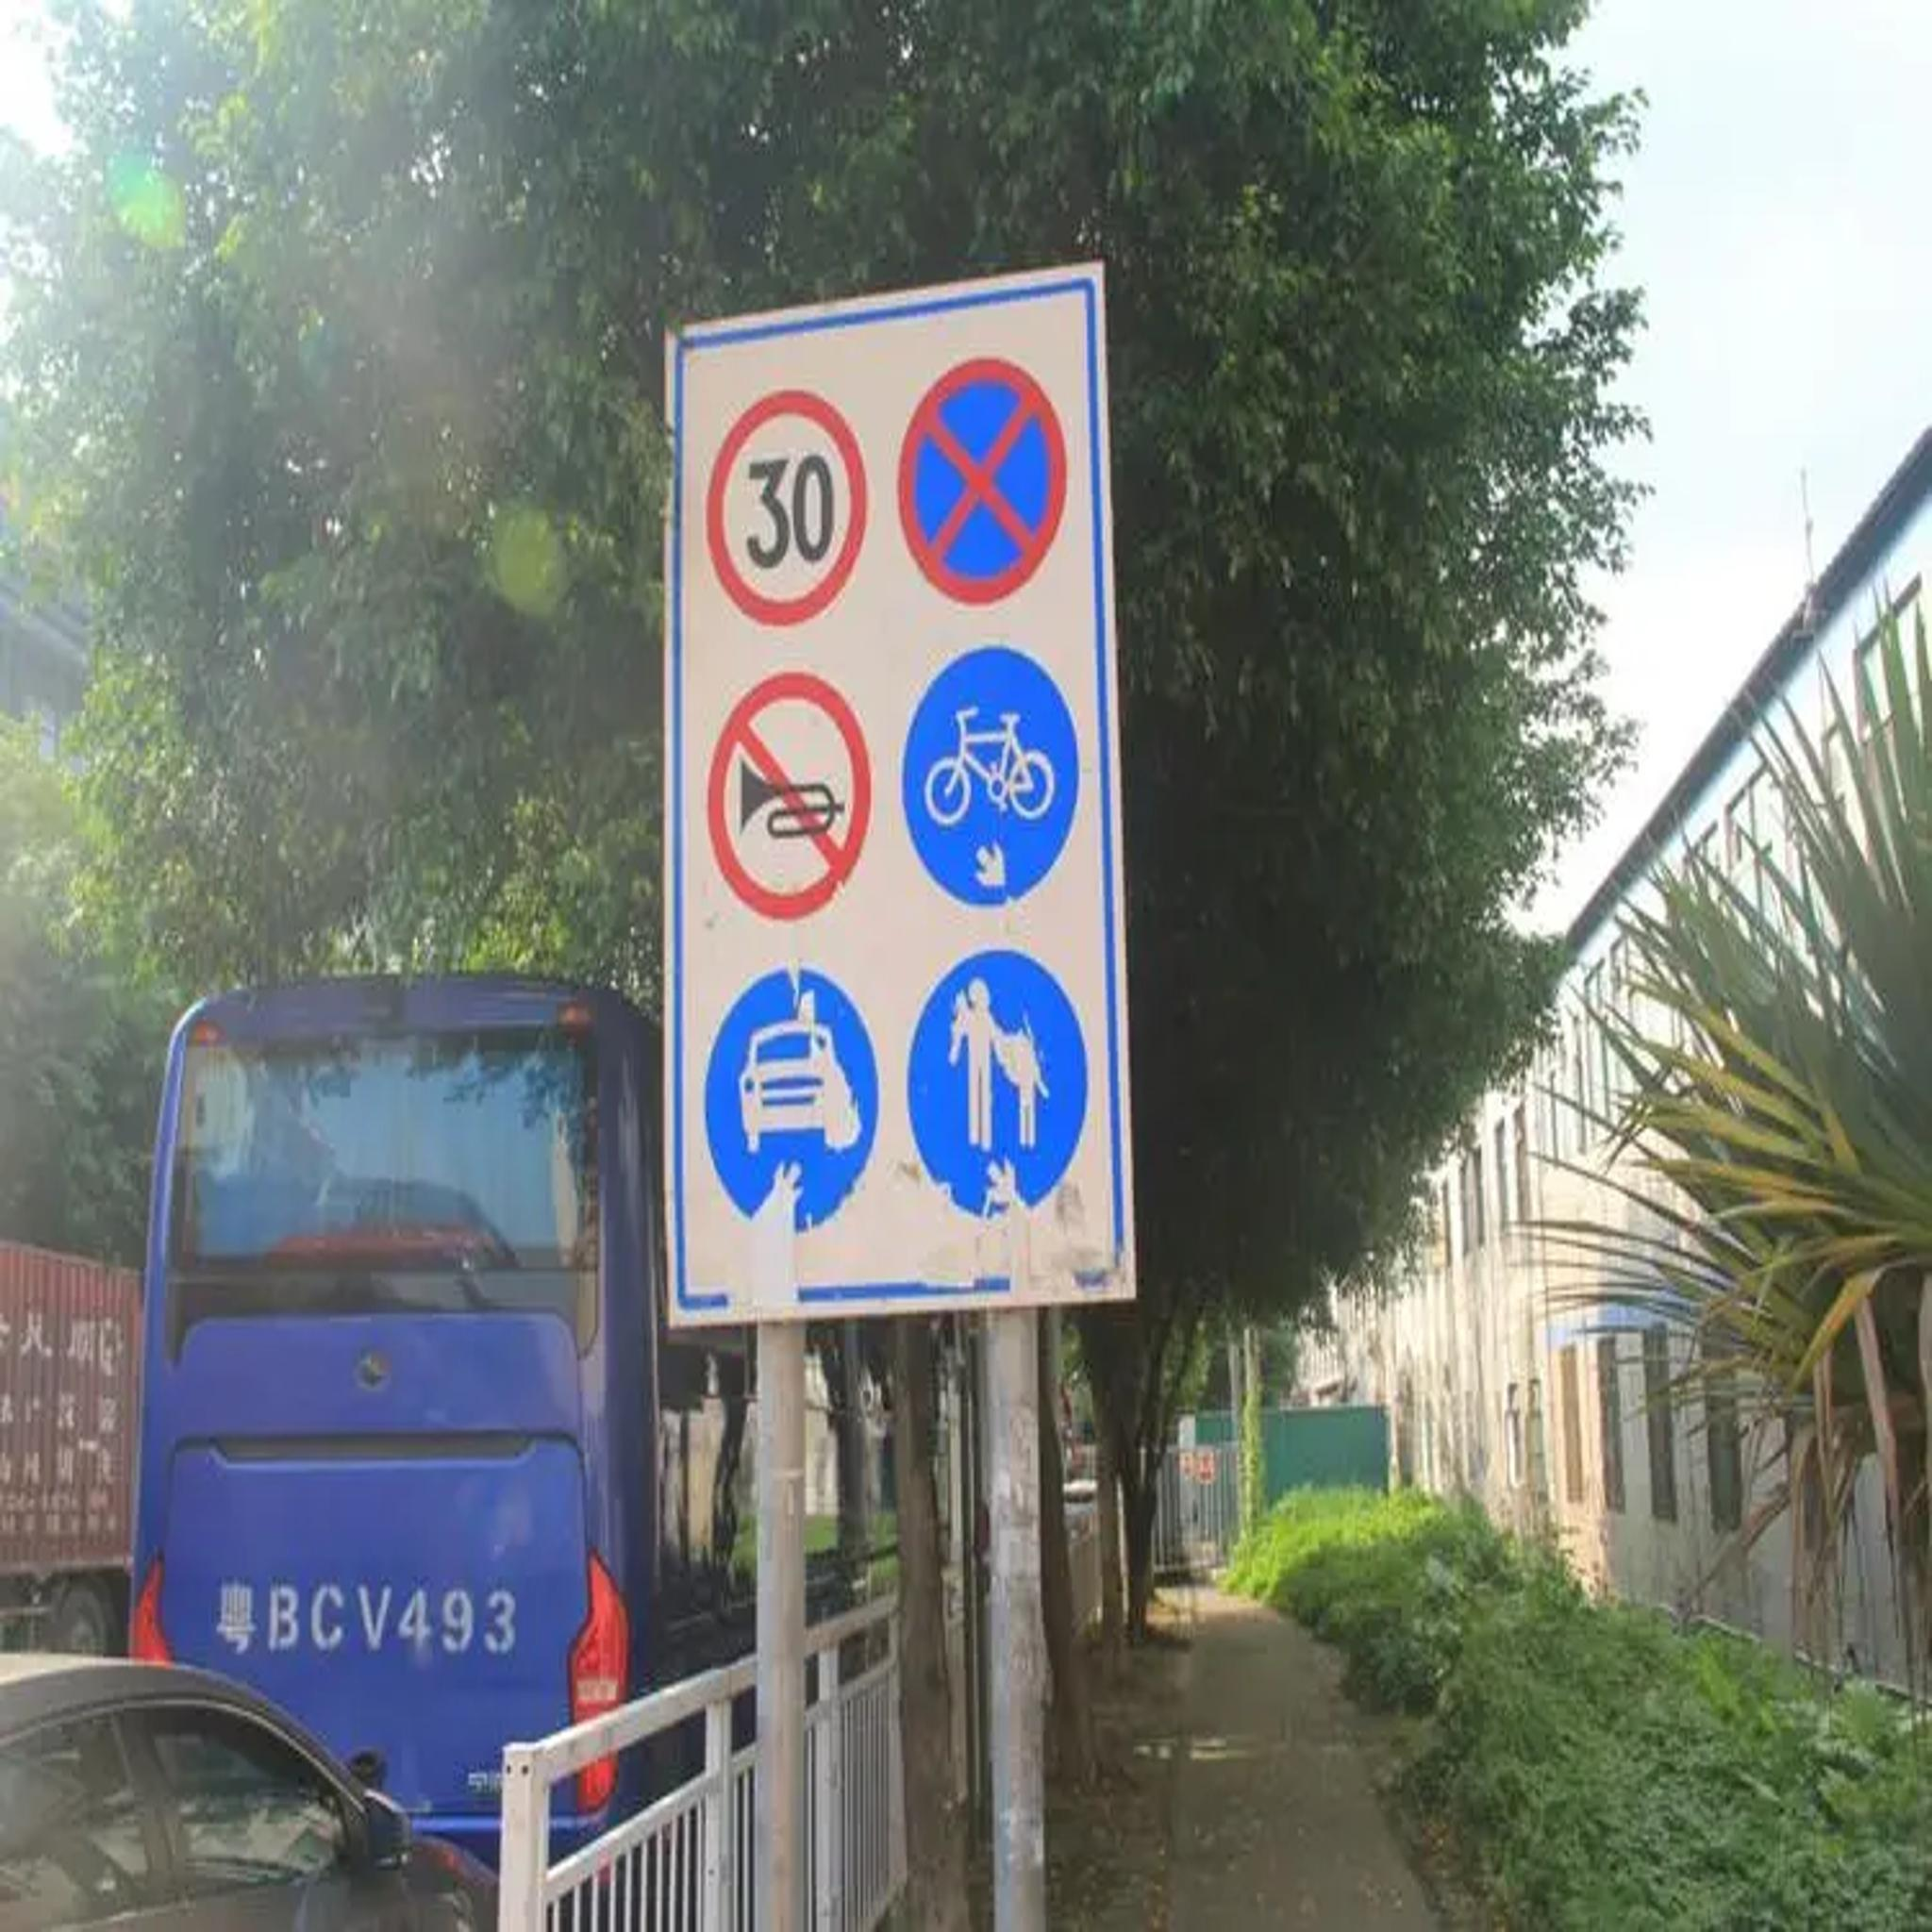i4: (702, 968, 886, 1235)
p11: (709, 674, 870, 913)
pl30: (706, 389, 858, 630)
pn: (890, 364, 1069, 614)
